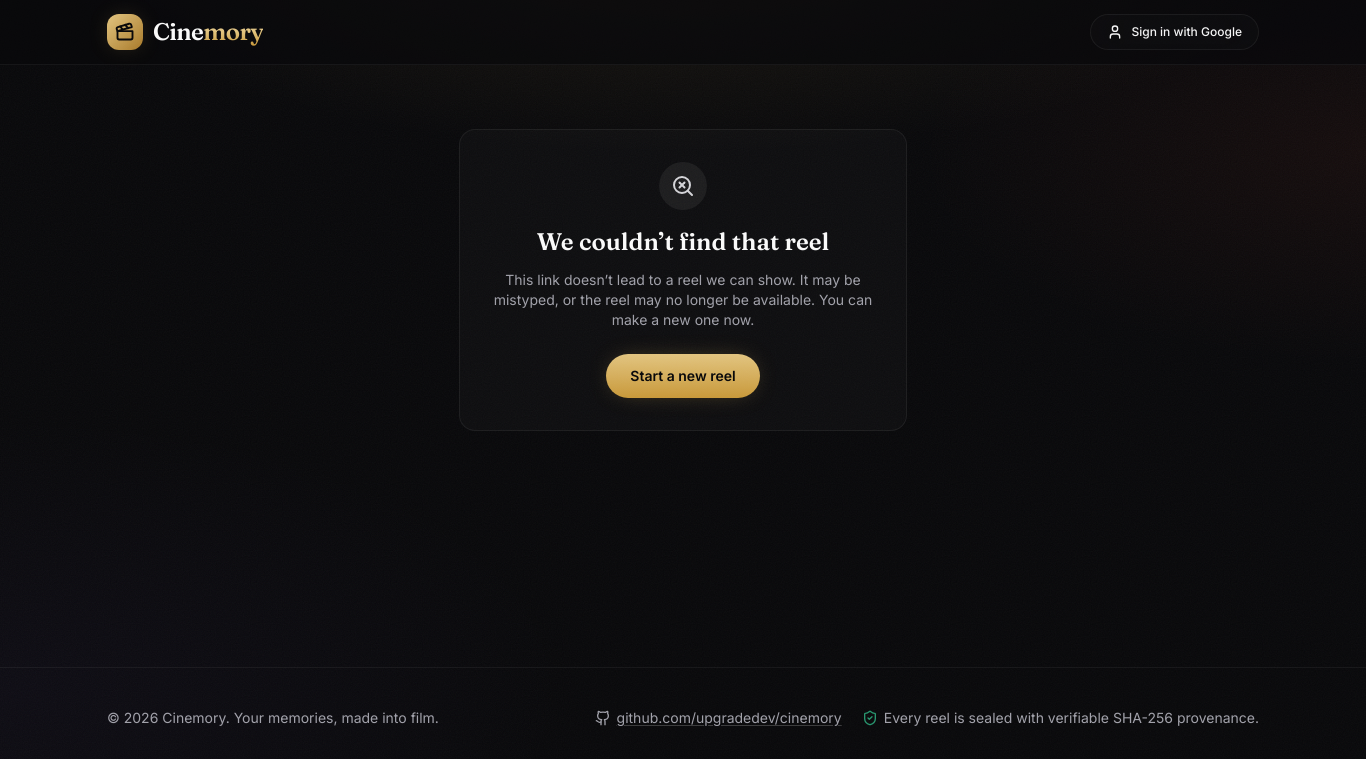
<App /> — reopening a reel from its link › offers a fresh start from a broken link, which clears the link too
The image size is (1366, 759).
Step 1. Click the button "Start a new reel" → coordinates (683, 376), box [606,354,760,398]
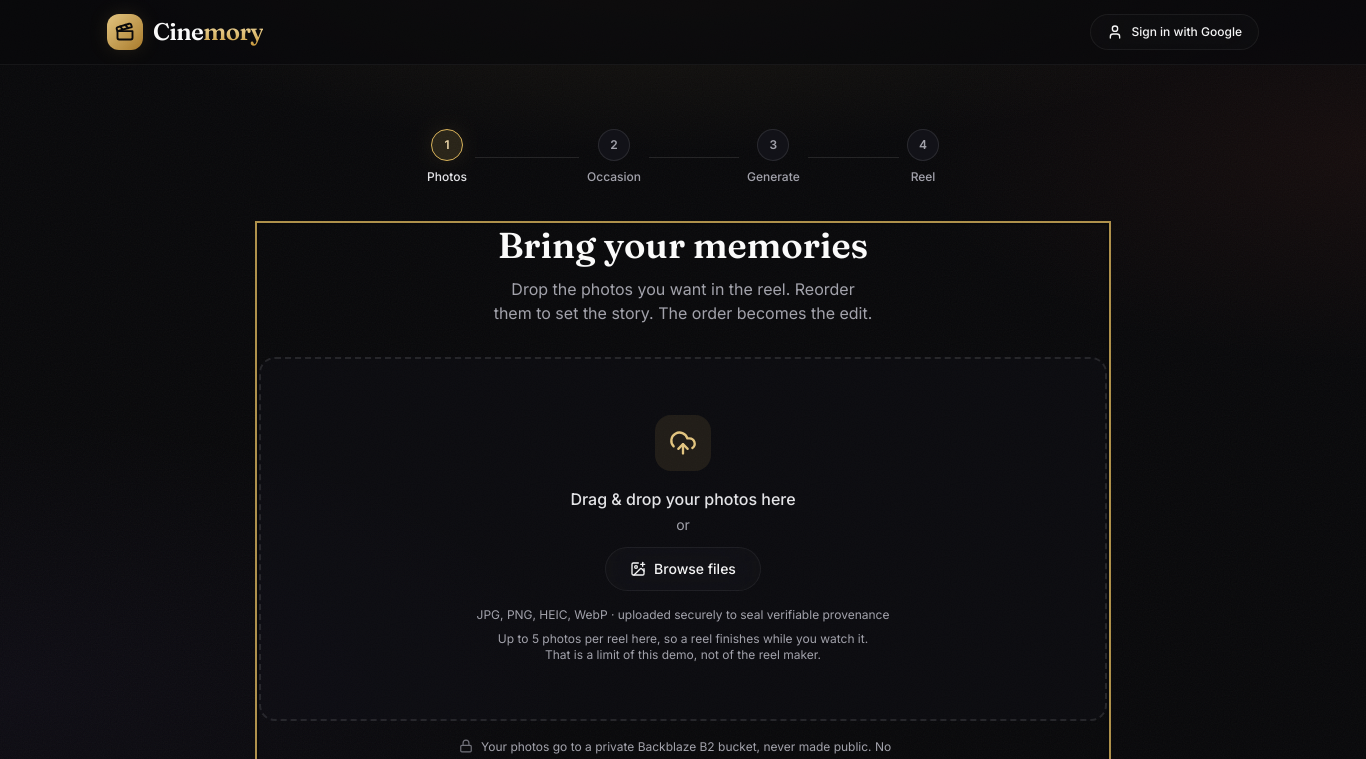
Result: the navigation bar named "progress" is shown at [427,129,939,185]
